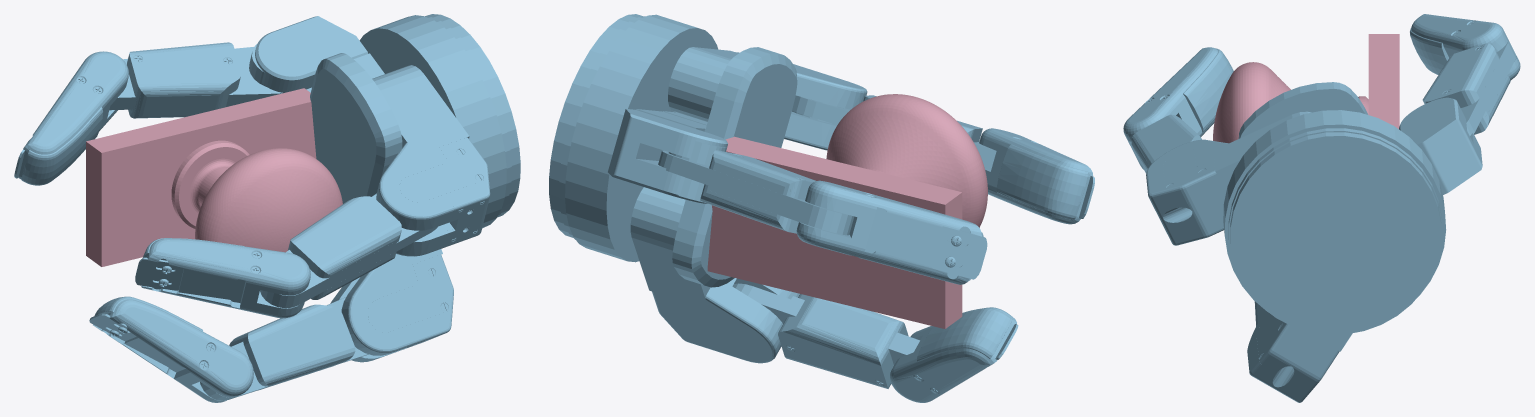
The picture shows the model from 3 angles, left to right: view 1: azimuth 30°, elevation 25°; view 2: azimuth 150°, elevation 25°; view 3: azimuth 270°, elevation 25°; orthographic projection. The views are drawn at different scales.
Parts seen in each view (by area): view 1: world, door_knob.stl; view 2: world, door_knob.stl; view 3: world, door_knob.stl.
Part boxes in pixels (box(x1,y1,x2,y2)): world: box(14, 14, 520, 402); door_knob.stl: box(86, 88, 342, 266); world: box(549, 14, 1094, 402); door_knob.stl: box(707, 94, 987, 328); world: box(1123, 14, 1520, 402); door_knob.stl: box(1213, 34, 1399, 143).
Bounding box in the file's own units: 0.1866 × 0.133 × 0.1593.
